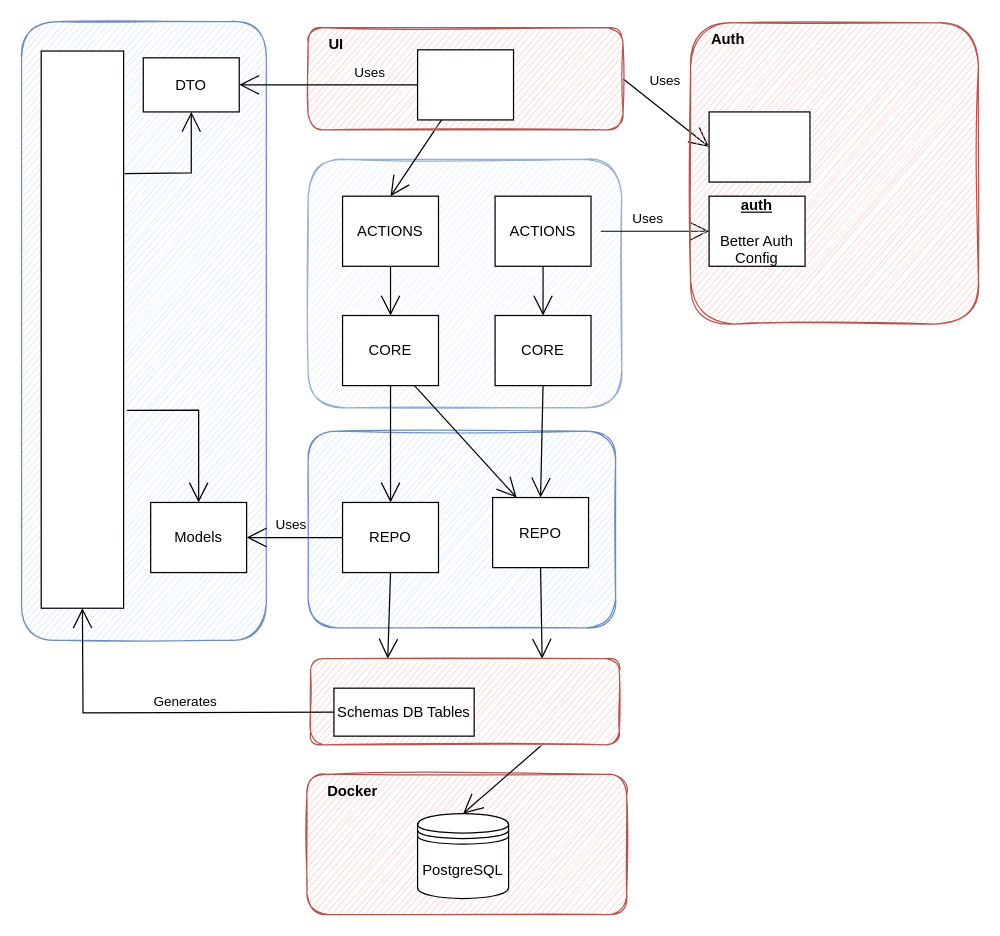
This 1000x936 diagram has some shape labels left out. Each missing label, with the box of its shape:
auth-client Hooks UI: (708, 111, 810, 182)
BLL: (307, 158, 622, 408)
DAL: (307, 430, 616, 628)
Drizzle: (309, 657, 619, 745)
Entities: (20, 20, 266, 640)
Pages: (416, 49, 514, 120)
Zod Schemas: (40, 50, 124, 608)
